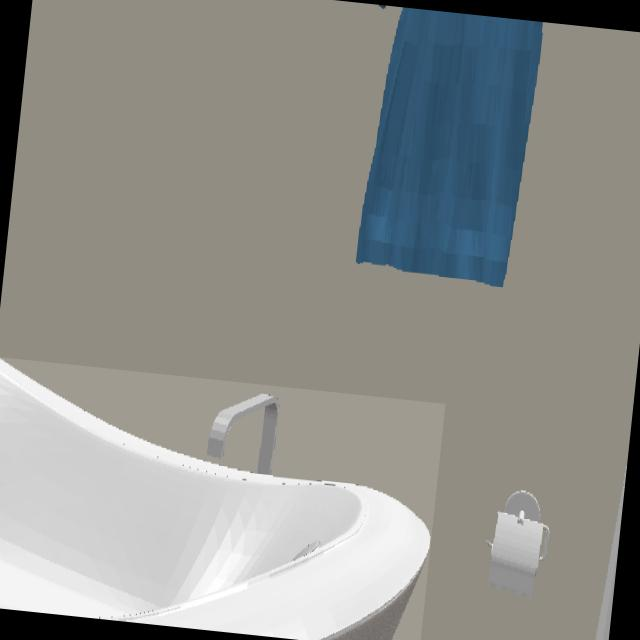bathtube: (0, 360, 431, 640)
